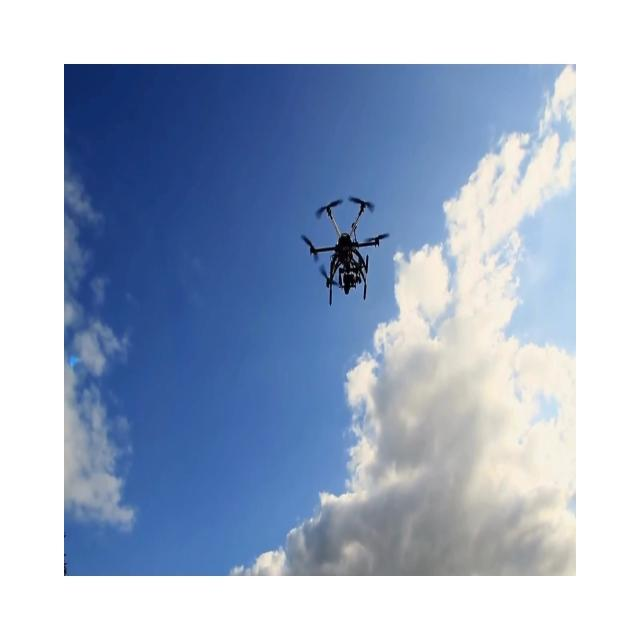drone: (300, 195, 390, 306)
